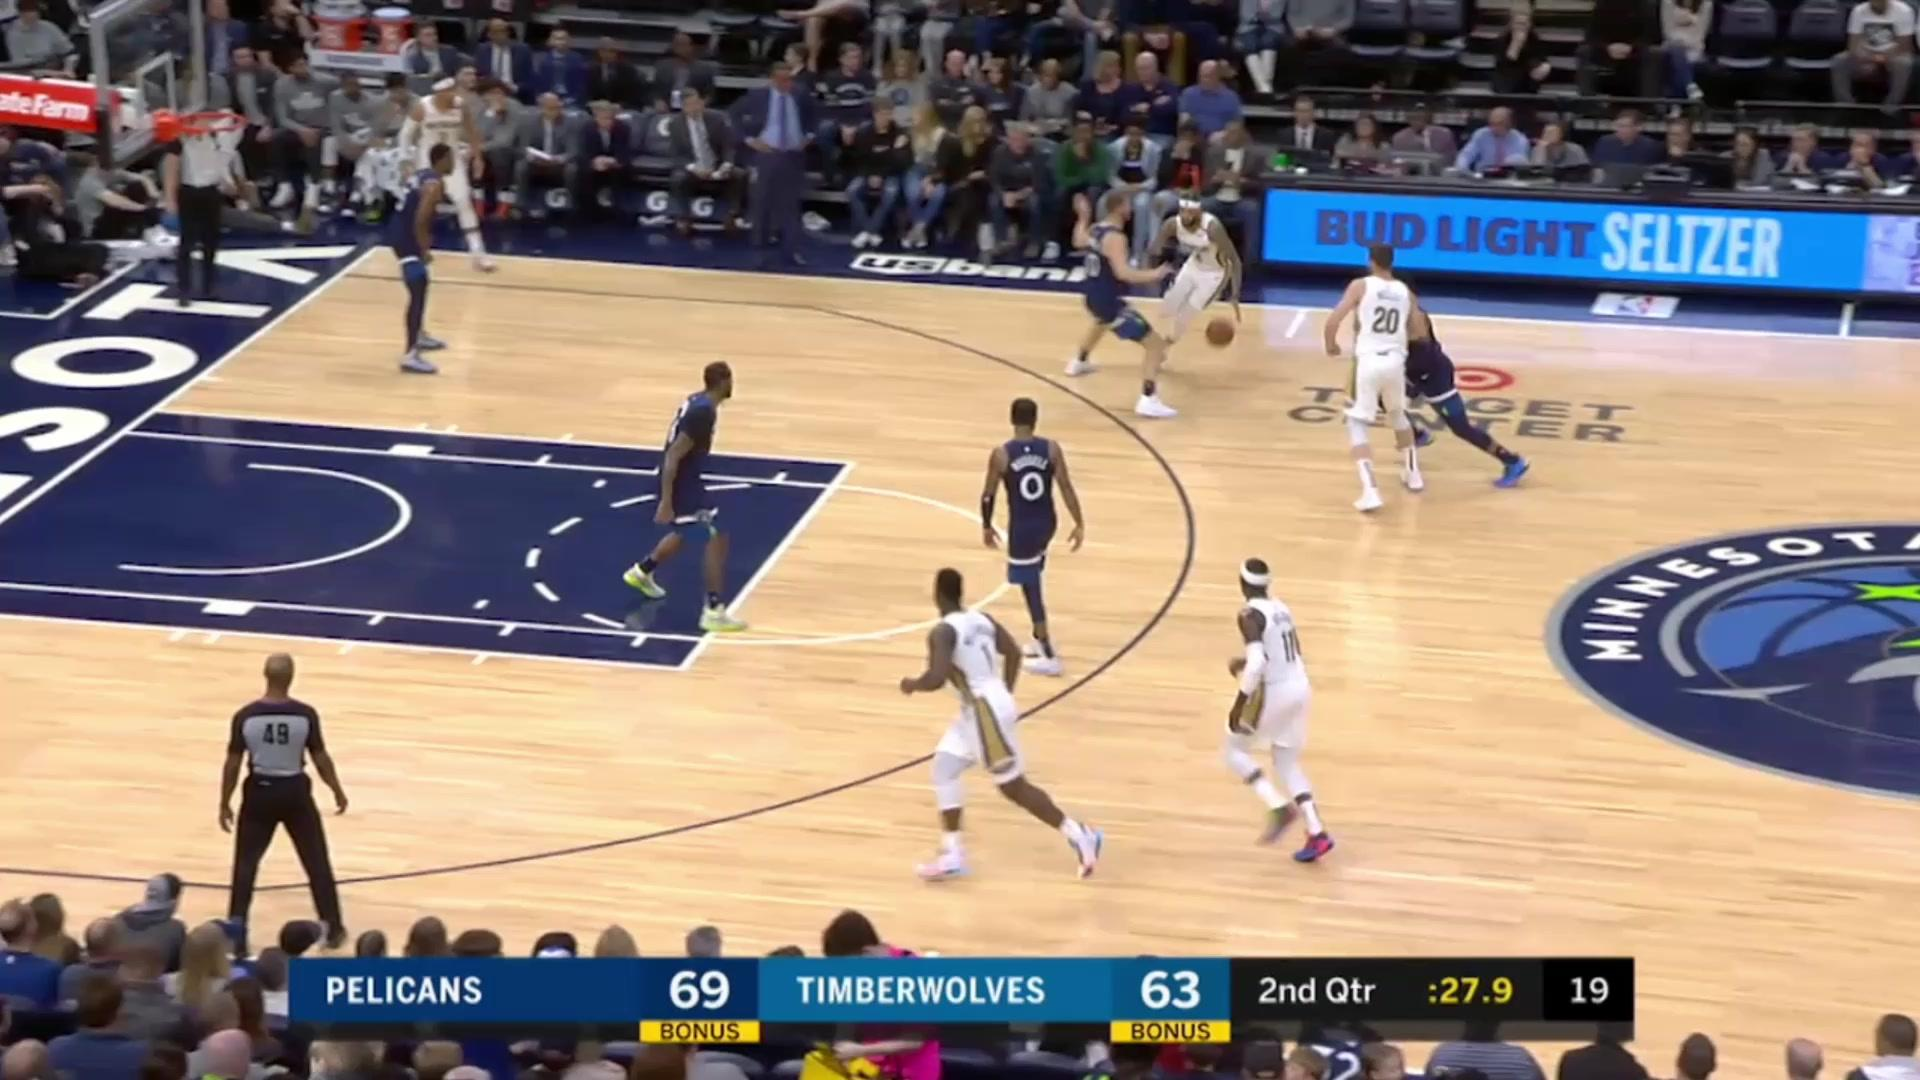no_foul: (1321, 229, 1516, 526)
